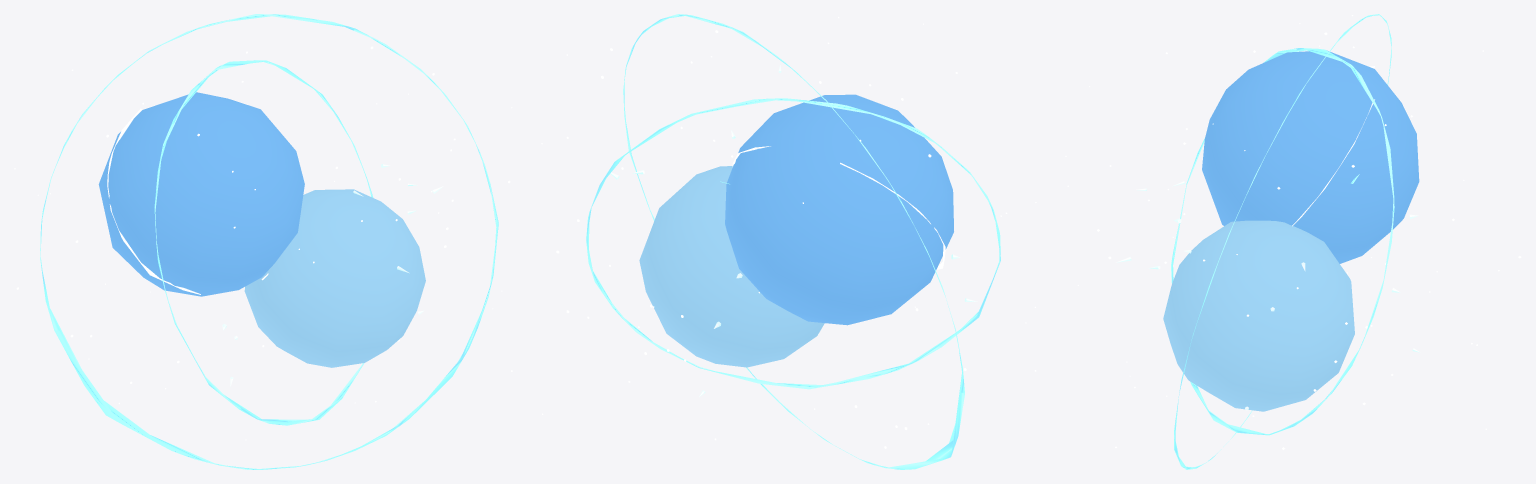
The model's file is Lunas_Gemelas.glb.
3 renders of one model, left to right at view 1: azimuth 30°, elevation 25°; view 2: azimuth 150°, elevation 25°; view 3: azimuth 270°, elevation 25°, orthographic. The views are drawn at different scales.
Parts seen in each view (by area): view 1: ZM_Moon_MoonA_Aura, ZM_Moon_MoonB_Aura, ZM_Moon_Moon_Ribbon, ZM_Moon_Moon_Spark; view 2: ZM_Moon_MoonA_Aura, ZM_Moon_MoonB_Aura, ZM_Moon_Moon_Ribbon, ZM_Moon_Moon_Spark; view 3: ZM_Moon_MoonA_Aura, ZM_Moon_MoonB_Aura, ZM_Moon_Moon_Ribbon, ZM_Moon_Moon_Spark.
Boxes of the visible parts, box(x1,y1,x2,y2) form: ZM_Moon_MoonA_Aura: box(98, 92, 304, 296); ZM_Moon_MoonB_Aura: box(244, 189, 425, 367); ZM_Moon_Moon_Ribbon: box(40, 14, 498, 469); ZM_Moon_Moon_Spark: box(14, 46, 512, 440); ZM_Moon_MoonA_Aura: box(725, 94, 953, 325); ZM_Moon_MoonB_Aura: box(639, 166, 824, 367); ZM_Moon_Moon_Ribbon: box(586, 14, 1000, 469); ZM_Moon_Moon_Spark: box(541, 17, 1036, 448); ZM_Moon_MoonA_Aura: box(1202, 50, 1419, 263); ZM_Moon_MoonB_Aura: box(1163, 220, 1354, 411); ZM_Moon_Moon_Ribbon: box(1171, 14, 1394, 469); ZM_Moon_Moon_Spark: box(1065, 15, 1521, 449).
Size of the model in its own units: 0.747 by 0.649 by 0.62.
